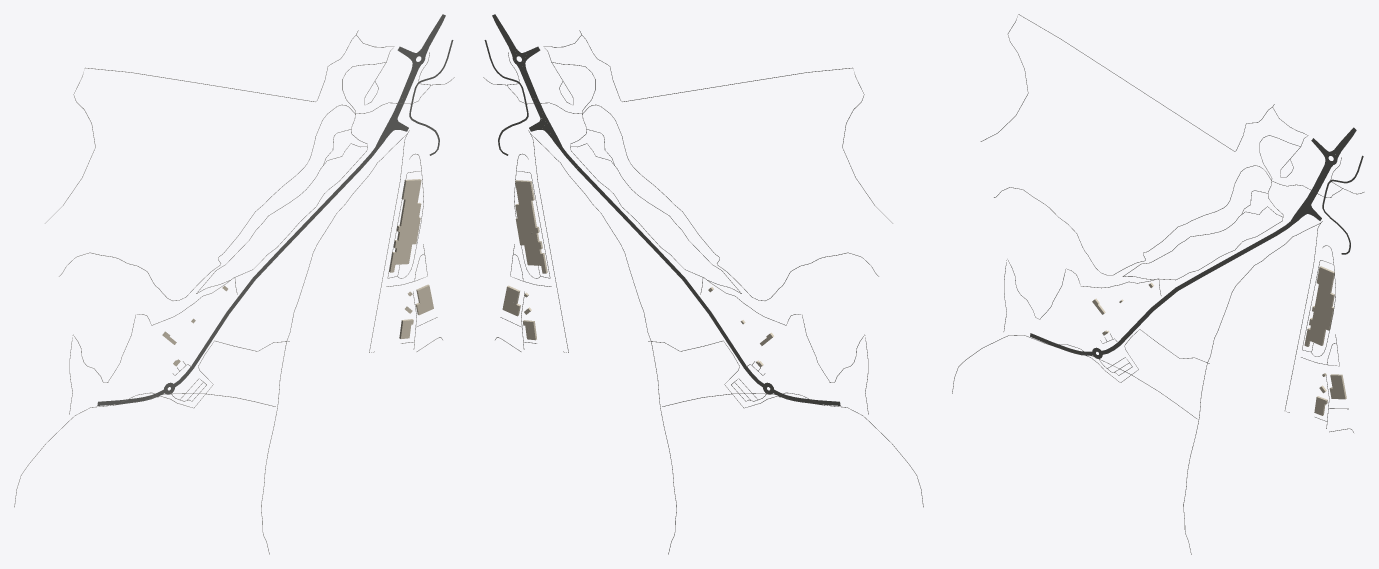
File: historic-palestine-13_31_3551_3250.glb
The picture shows the model from 3 angles, left to right: view 1: azimuth 30°, elevation 25°; view 2: azimuth 150°, elevation 25°; view 3: azimuth 330°, elevation 25°; orthographic projection. The views are drawn at different scales.
Parts seen in each view (by area): view 1: Building_, Road שדרות מנחם בגין, Road 90.001, Road .003; view 2: Building_, Road שדרות מנחם בגין, Road 90.001, Road .003; view 3: Building_, Road שדרות מנחם בגין, Road 90.001.
Part boxes in pixels (box(x1,y1,x2,y2)): Building_: box(389, 179, 421, 272); Road שדרות מנחם בגין: box(172, 249, 281, 387); Road 90.001: box(280, 147, 377, 251); Road .003: box(69, 128, 367, 414); Building_: box(515, 180, 547, 273); Road שדרות מנחם בגין: box(656, 249, 764, 387); Road 90.001: box(560, 147, 657, 251); Road .003: box(570, 128, 868, 414); Building_: box(1304, 266, 1334, 346); Road שדרות מנחם בגין: box(1101, 273, 1202, 354); Road 90.001: box(1201, 221, 1292, 276).
Size of the model in its own units: 1333 by 1539 by 8.84.
